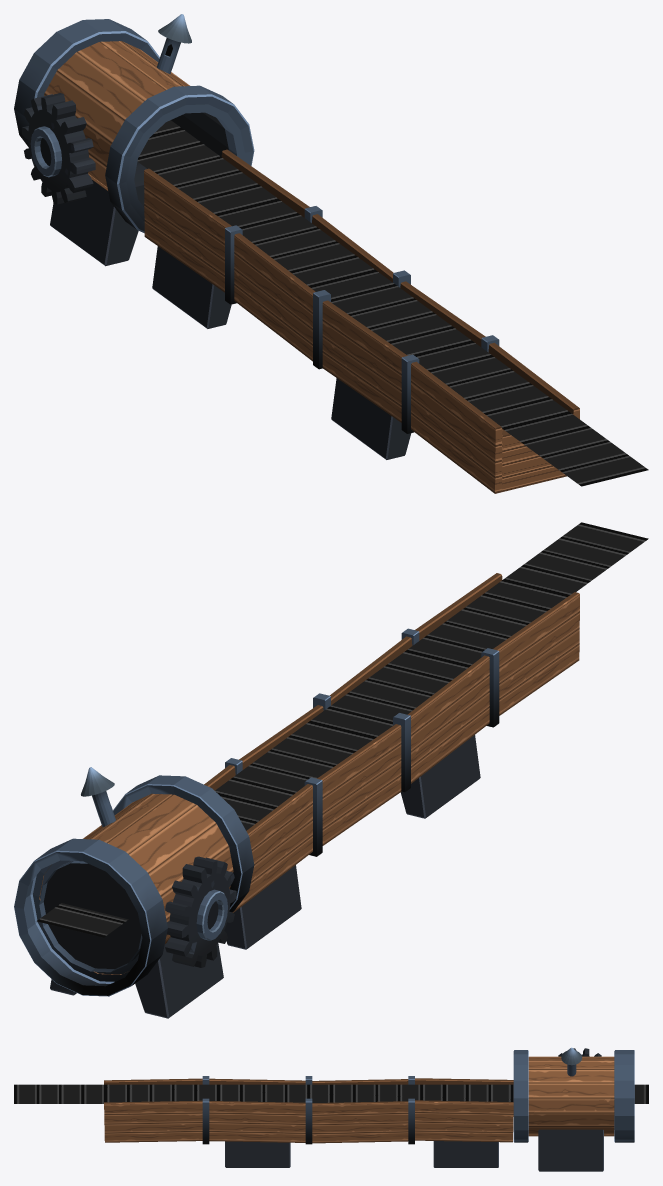
Rendered from AmmunitionMachine.fbx.
3 renders of one model, top to bottom at view 1: azimuth 30°, elevation 25°; view 2: azimuth 150°, elevation 25°; view 3: azimuth 270°, elevation 25°, orthographic. The views are drawn at different scales.
Parts seen in each view (by area): view 1: Machine, Belt, Wheel; view 2: Machine, Belt, Wheel; view 3: Machine, Belt.
Boxes of the visible parts, left/top/right/bottom form: Machine: left=14, top=14, right=579, bottom=493; Belt: left=137, top=120, right=648, bottom=486; Wheel: left=22, top=93, right=95, bottom=204; Machine: left=14, top=573, right=579, bottom=1018; Belt: left=37, top=522, right=648, bottom=937; Wheel: left=165, top=856, right=236, bottom=967; Machine: left=104, top=1047, right=634, bottom=1171; Belt: left=14, top=1084, right=648, bottom=1103.
Size of the model in its own units: 488 by 620 by 2969.
